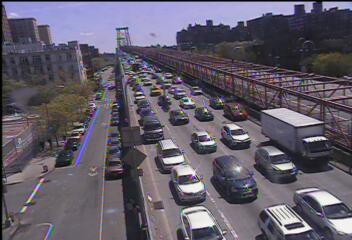neg: (17, 185, 33, 207), (93, 183, 104, 198), (42, 163, 51, 176)
pos: (46, 134, 57, 149), (36, 138, 46, 151)
